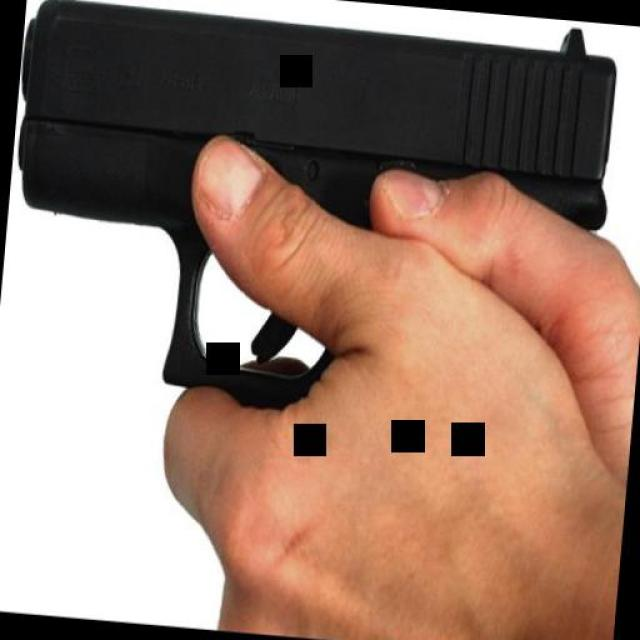gun: (0, 0, 622, 449)
